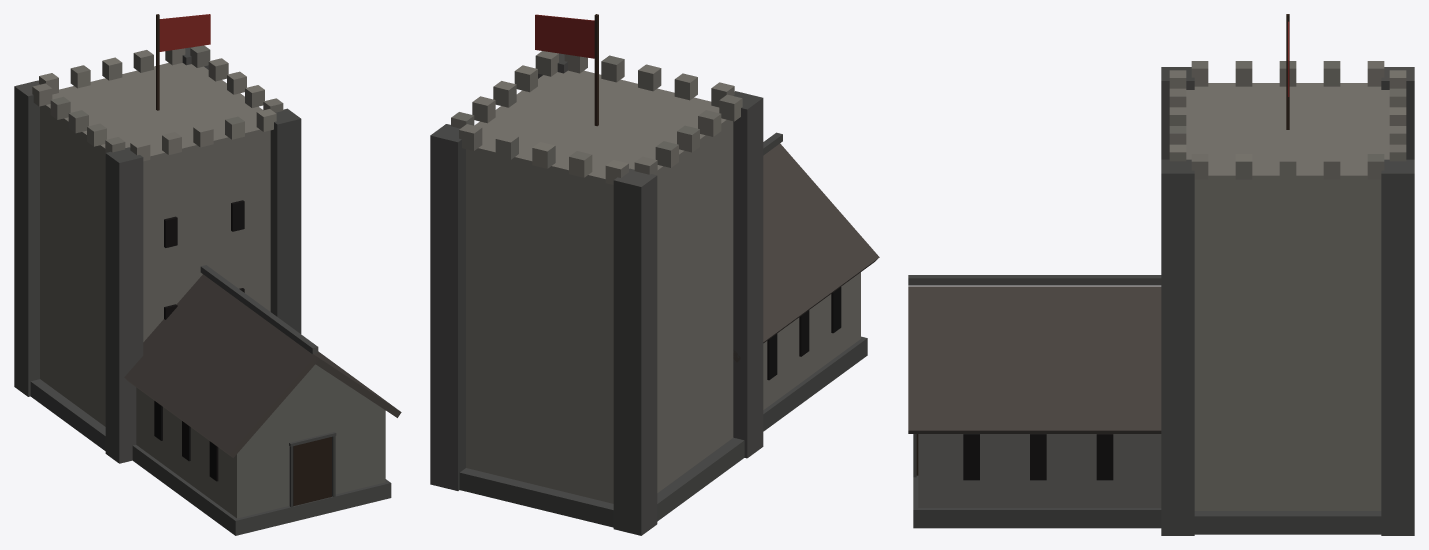
File: hallowed_seat.glb
3 renders of one model, left to right at view 1: azimuth 30°, elevation 25°; view 2: azimuth 150°, elevation 25°; view 3: azimuth 270°, elevation 25°, orthographic. The views are drawn at different scales.
Visible parts, largest first — view 1: hallowed_seat; view 2: hallowed_seat; view 3: hallowed_seat.
Part boxes in pixels (left/top/right/bottom): hallowed_seat: left=14, top=14, right=401, bottom=535; hallowed_seat: left=430, top=14, right=879, bottom=535; hallowed_seat: left=908, top=14, right=1414, bottom=535.
Bounding box in the file's own units: 7.6 × 15.5 × 15.2.
Materials: 1 (1 with a texture image).
